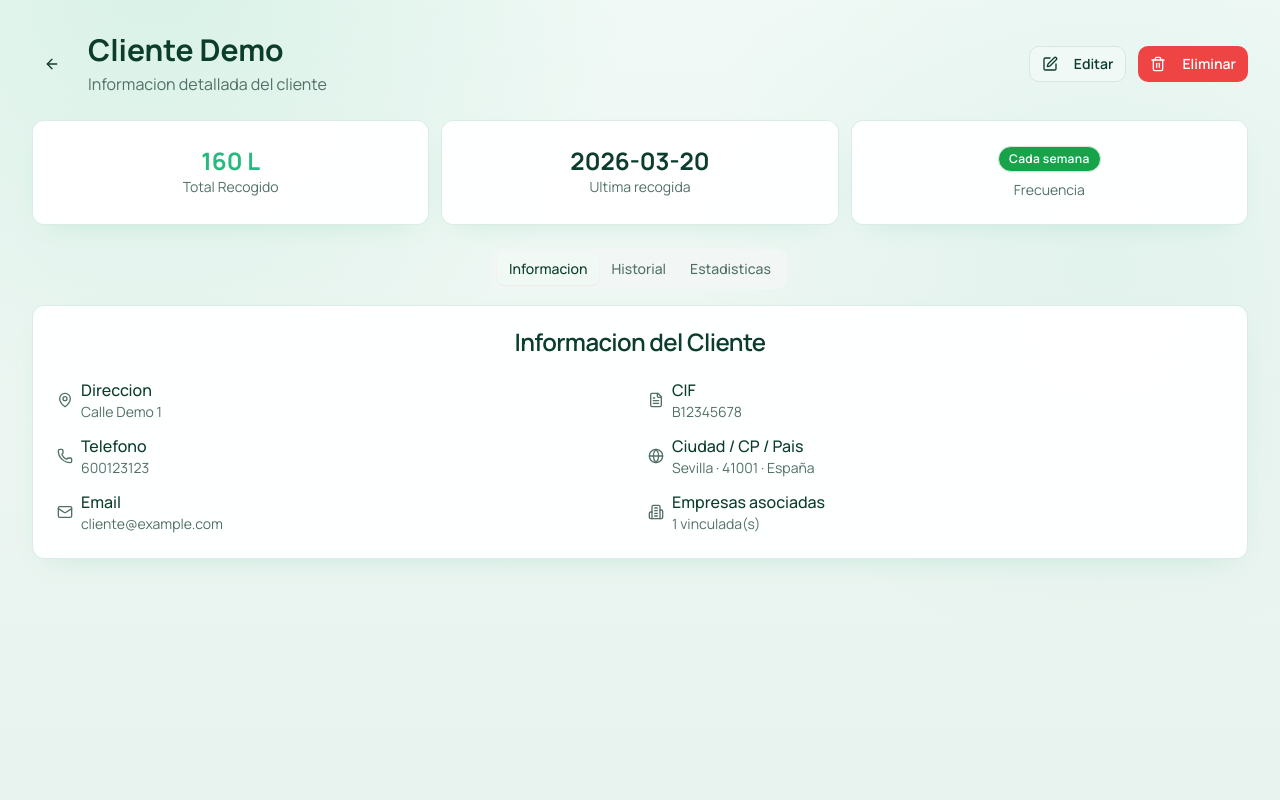
ClientDetail › muestra badges facturable y no facturable en el historial
This screenshot has width=1280, height=800.
Check: the heading "Cliente Demo" is shown, box [88,29,284,70]
Click the tab "Historial" at (639, 269), box [600,253,678,285]
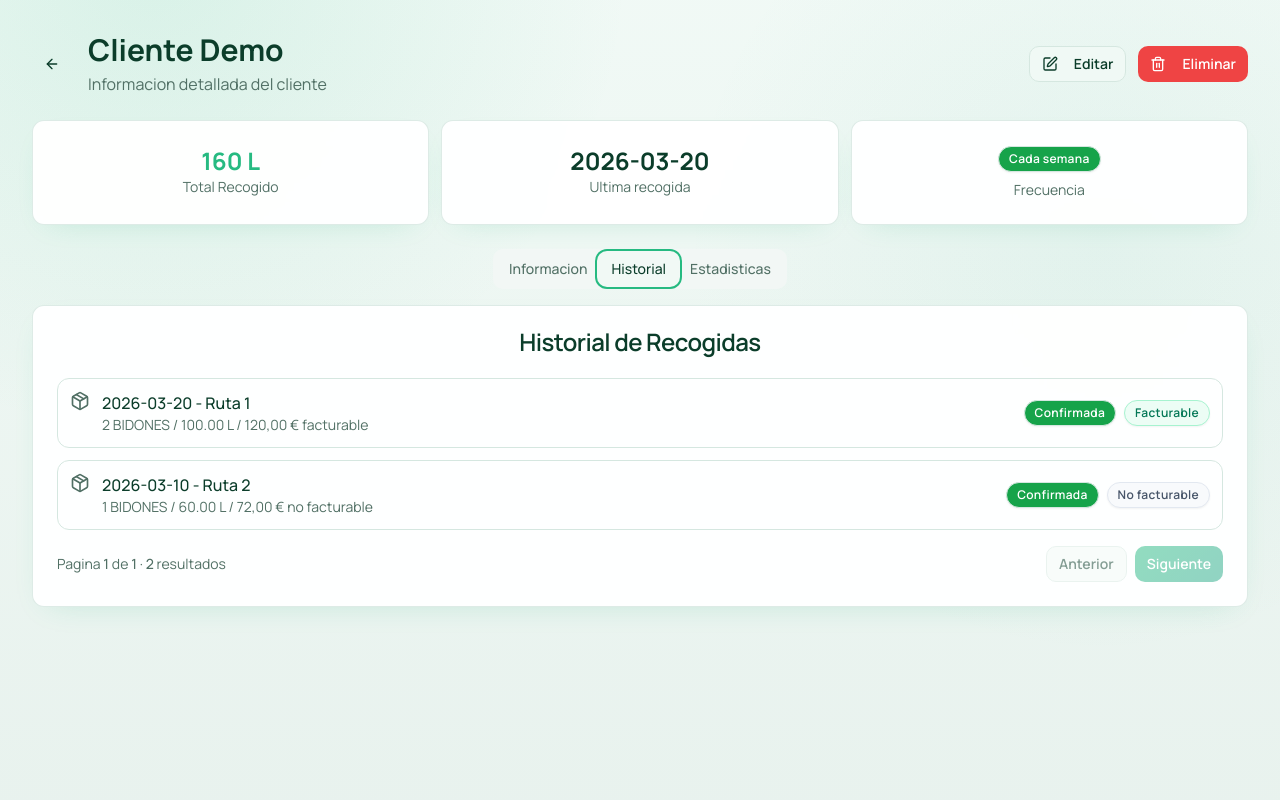
Check: the text "Facturable" is shown, box [1124,400,1210,426]
Check: the text "No facturable" is shown, box [1107,482,1210,508]
